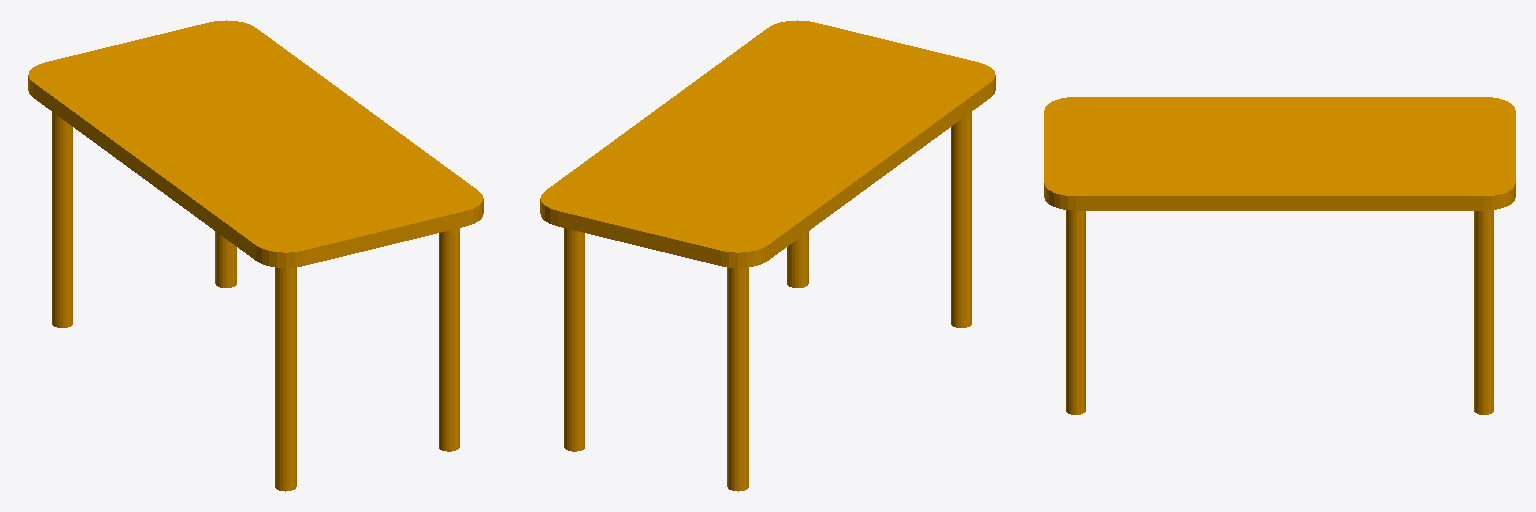
URDF robot description (table):
<?xml version="1.0"?>
<robot name="table">

    <link name="base_link">

        <visual>
            <origin rpy="0 0 0" xyz="0 0 0"/>
            <geometry>
                <mesh filename="table.obj" scale="1 1 1"/>
            </geometry>
        </visual>

        <collision>
            <origin rpy="0 0 0" xyz="0 0 0.32"/>
            <geometry>
                <box size="0.6 1.2 0.64"/>
            </geometry>
        </collision>

        <inertial>
            <mass value="0.0"/>
            <origin rpy="0 0 0" xyz="0 0 0"/>
            <inertia ixx="1" ixy="0" ixz="0" iyy="1" iyz="0" izz="1"/>
        </inertial>


    </link>
</robot>

--- Render facts (derived) ---
The picture shows the robot from 3 angles, left to right: view 1: azimuth 30°, elevation 25°; view 2: azimuth 150°, elevation 25°; view 3: azimuth 270°, elevation 25°; orthographic projection.
Robot: table — 1 links, 0 joints (none); root link base_link; default pose: every joint at zero.
Visible links, largest first — view 1: base_link; view 2: base_link; view 3: base_link.
Boxes of the visible links, bbox=[...] form: base_link: bbox=[28, 20, 483, 491]; base_link: bbox=[540, 20, 995, 491]; base_link: bbox=[1044, 97, 1515, 414].
Bounding box of the posed robot: 0.6 × 1.2 × 0.64 m (x, y, z).
1 mesh visuals loaded from 1 distinct referenced files (1 OBJ).